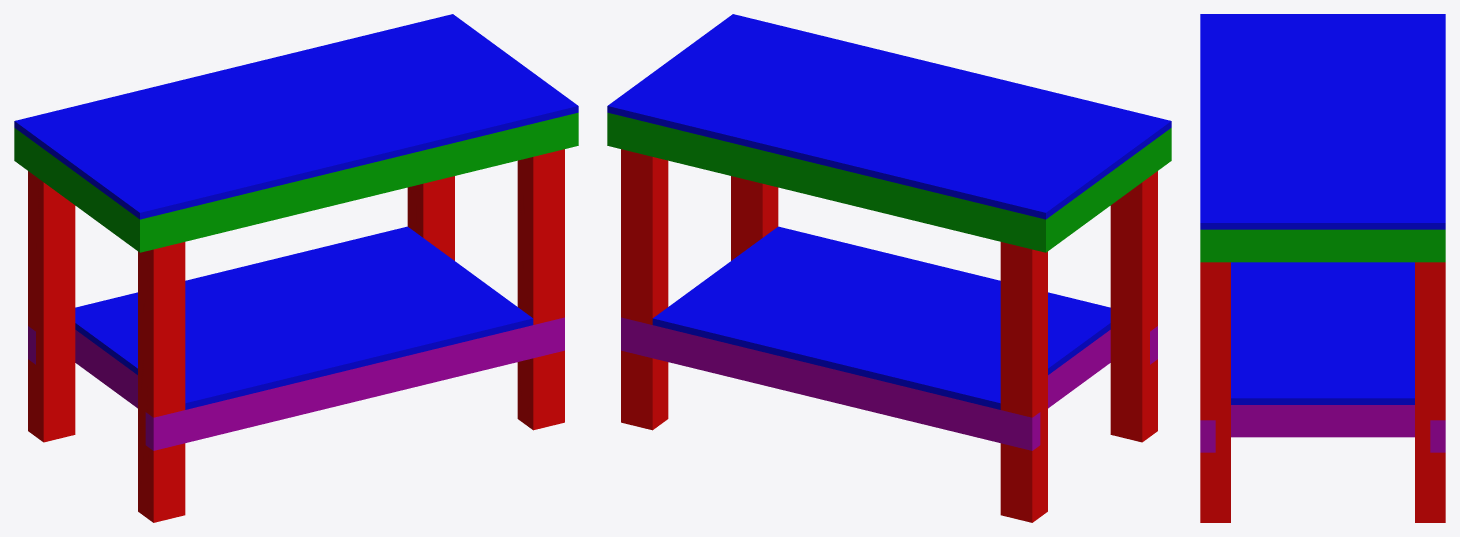
Rendered from result.glb.
The picture shows the model from 3 angles, left to right: view 1: azimuth 30°, elevation 25°; view 2: azimuth 150°, elevation 25°; view 3: azimuth 270°, elevation 25°; orthographic projection. The views are drawn at different scales.
Visible parts, largest first — view 1: 13d35b79-787e-4bd3-a23c-d46534349508__Box, b063d97d-4b78-4fa5-8728-4891bee42988__Box_1, a3a0d220-c64b-49a4-9f5e-e9a7cb39c200__top length, 4d0f32e9-65d8-4e0d-9fb3-57f578ab9488__along length, 18fa521b-5bd5-4f31-b9e3-41f3d4a7c5d2__undefined, fb5e9819-161b-44c9-8cb3-9aa66fd276b6__leg mid, 5430abd1-1c9f-490a-8cde-9f697ab83813__undefined, f62bf004-e547-4e9b-aa96-35e8892e5b15__top depth, 9ed49ee5-0c81-4d8a-8e6c-afe8b67c134a__leg bottom, 94fa6f74-6a51-4f1a-8a19-7b03acaba309__undefined, 24b9dea5-1b3c-497f-92b8-202c79326471__undefined, 8661de2d-49f7-4d10-9c80-697a87f9ffa3__along depth (+3 smaller); view 2: 13d35b79-787e-4bd3-a23c-d46534349508__Box, b063d97d-4b78-4fa5-8728-4891bee42988__Box_1, 671dd8c4-1318-42e6-bf55-4cd3c9c88bd6__undefined, 419f1bf5-0aa5-4462-8c5a-b2c2de4e0ce5__undefined, 9eba5e8e-7382-4f52-b38d-d35a54d3f8df__leg long, 60b0bdfe-6f0e-4224-93ee-7a9776285fb1__undefined, 1f9a437a-9be0-456f-808c-ce2caed6a171__undefined, f62bf004-e547-4e9b-aa96-35e8892e5b15__top depth, fb0f0716-d206-45b6-be87-8408875faf21__undefined, fe277009-148c-4531-836b-3d0ea6433481__undefined, fa50421e-6323-42bb-b5b6-4106b99b1d18__undefined, 8661de2d-49f7-4d10-9c80-697a87f9ffa3__along depth (+3 smaller); view 3: 13d35b79-787e-4bd3-a23c-d46534349508__Box, b063d97d-4b78-4fa5-8728-4891bee42988__Box_1, 78535b28-4ea5-4ab3-a0a2-08838946b173__undefined, d6ab1aec-a214-4814-a0aa-774a9a250458__undefined, fa50421e-6323-42bb-b5b6-4106b99b1d18__undefined, 24b9dea5-1b3c-497f-92b8-202c79326471__undefined, 5430abd1-1c9f-490a-8cde-9f697ab83813__undefined, 1f9a437a-9be0-456f-808c-ce2caed6a171__undefined, 94fa6f74-6a51-4f1a-8a19-7b03acaba309__undefined, fe277009-148c-4531-836b-3d0ea6433481__undefined, a3a0d220-c64b-49a4-9f5e-e9a7cb39c200__top length, 671dd8c4-1318-42e6-bf55-4cd3c9c88bd6__undefined (+2 smaller).
Part boxes in pixels (x1,y1,x2,y2): 13d35b79-787e-4bd3-a23c-d46534349508__Box: (14, 14, 578, 219); b063d97d-4b78-4fa5-8728-4891bee42988__Box_1: (75, 226, 533, 409); a3a0d220-c64b-49a4-9f5e-e9a7cb39c200__top length: (132, 112, 578, 252); 4d0f32e9-65d8-4e0d-9fb3-57f578ab9488__along length: (145, 317, 564, 450); 18fa521b-5bd5-4f31-b9e3-41f3d4a7c5d2__undefined: (36, 177, 75, 442); fb5e9819-161b-44c9-8cb3-9aa66fd276b6__leg mid: (145, 242, 185, 417); 5430abd1-1c9f-490a-8cde-9f697ab83813__undefined: (525, 149, 564, 324); f62bf004-e547-4e9b-aa96-35e8892e5b15__top depth: (22, 134, 132, 246); 9ed49ee5-0c81-4d8a-8e6c-afe8b67c134a__leg bottom: (145, 443, 185, 522); 94fa6f74-6a51-4f1a-8a19-7b03acaba309__undefined: (525, 350, 564, 430); 24b9dea5-1b3c-497f-92b8-202c79326471__undefined: (415, 176, 454, 260); 8661de2d-49f7-4d10-9c80-697a87f9ffa3__along depth: (75, 330, 137, 408); 13d35b79-787e-4bd3-a23c-d46534349508__Box: (607, 14, 1171, 219); b063d97d-4b78-4fa5-8728-4891bee42988__Box_1: (652, 226, 1110, 409); 671dd8c4-1318-42e6-bf55-4cd3c9c88bd6__undefined: (607, 112, 1053, 252); 419f1bf5-0aa5-4462-8c5a-b2c2de4e0ce5__undefined: (621, 317, 1040, 450); 9eba5e8e-7382-4f52-b38d-d35a54d3f8df__leg long: (1110, 177, 1149, 442); 60b0bdfe-6f0e-4224-93ee-7a9776285fb1__undefined: (1000, 242, 1040, 417); 1f9a437a-9be0-456f-808c-ce2caed6a171__undefined: (621, 149, 660, 324); f62bf004-e547-4e9b-aa96-35e8892e5b15__top depth: (1053, 134, 1163, 246); fb0f0716-d206-45b6-be87-8408875faf21__undefined: (1000, 443, 1040, 522); fe277009-148c-4531-836b-3d0ea6433481__undefined: (621, 350, 660, 430); fa50421e-6323-42bb-b5b6-4106b99b1d18__undefined: (731, 176, 770, 260); 8661de2d-49f7-4d10-9c80-697a87f9ffa3__along depth: (1048, 330, 1110, 408); 13d35b79-787e-4bd3-a23c-d46534349508__Box: (1200, 14, 1445, 229); b063d97d-4b78-4fa5-8728-4891bee42988__Box_1: (1231, 262, 1414, 404); 78535b28-4ea5-4ab3-a0a2-08838946b173__undefined: (1215, 229, 1430, 262); d6ab1aec-a214-4814-a0aa-774a9a250458__undefined: (1231, 405, 1414, 437); fa50421e-6323-42bb-b5b6-4106b99b1d18__undefined: (1215, 262, 1230, 522); 24b9dea5-1b3c-497f-92b8-202c79326471__undefined: (1415, 262, 1430, 522); 5430abd1-1c9f-490a-8cde-9f697ab83813__undefined: (1200, 262, 1215, 420); 1f9a437a-9be0-456f-808c-ce2caed6a171__undefined: (1430, 262, 1445, 420); 94fa6f74-6a51-4f1a-8a19-7b03acaba309__undefined: (1200, 452, 1215, 522); fe277009-148c-4531-836b-3d0ea6433481__undefined: (1430, 452, 1445, 522); a3a0d220-c64b-49a4-9f5e-e9a7cb39c200__top length: (1200, 229, 1215, 262); 671dd8c4-1318-42e6-bf55-4cd3c9c88bd6__undefined: (1430, 229, 1445, 262).
Bounding box in the file's own units: 1230 × 840 × 610.
